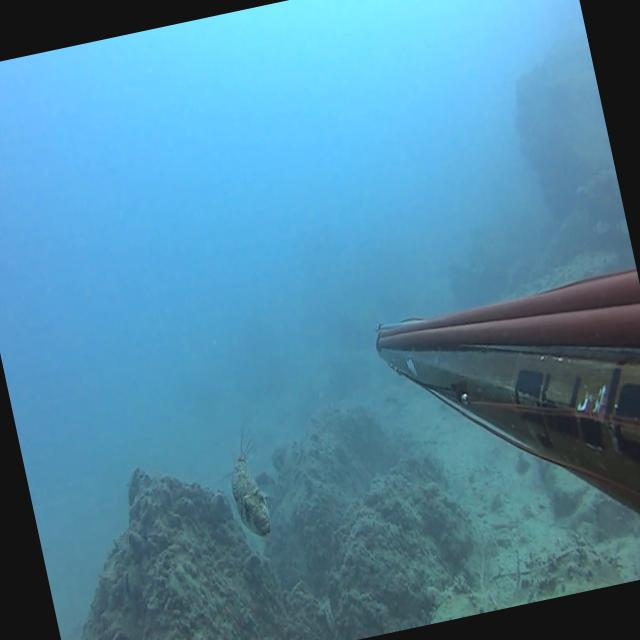Balon Baligi: (210, 416, 282, 542)
